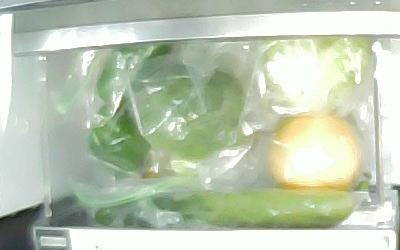broccoli_vinyl: (137, 66, 244, 160)
cucumber_vinyl: (94, 189, 354, 227)
grapefruit_vinyl: (270, 113, 360, 189)
lettuce_vinyl: (259, 38, 369, 113)
paprika_vinyl: (97, 44, 172, 108), (89, 102, 152, 171)
